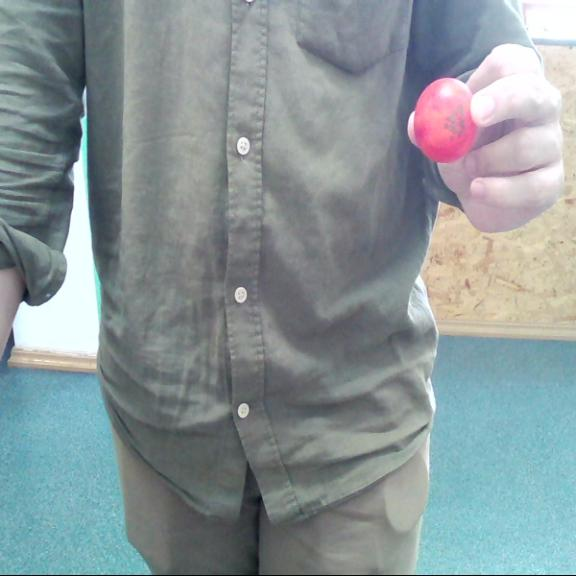ball: (413, 78, 477, 160)
